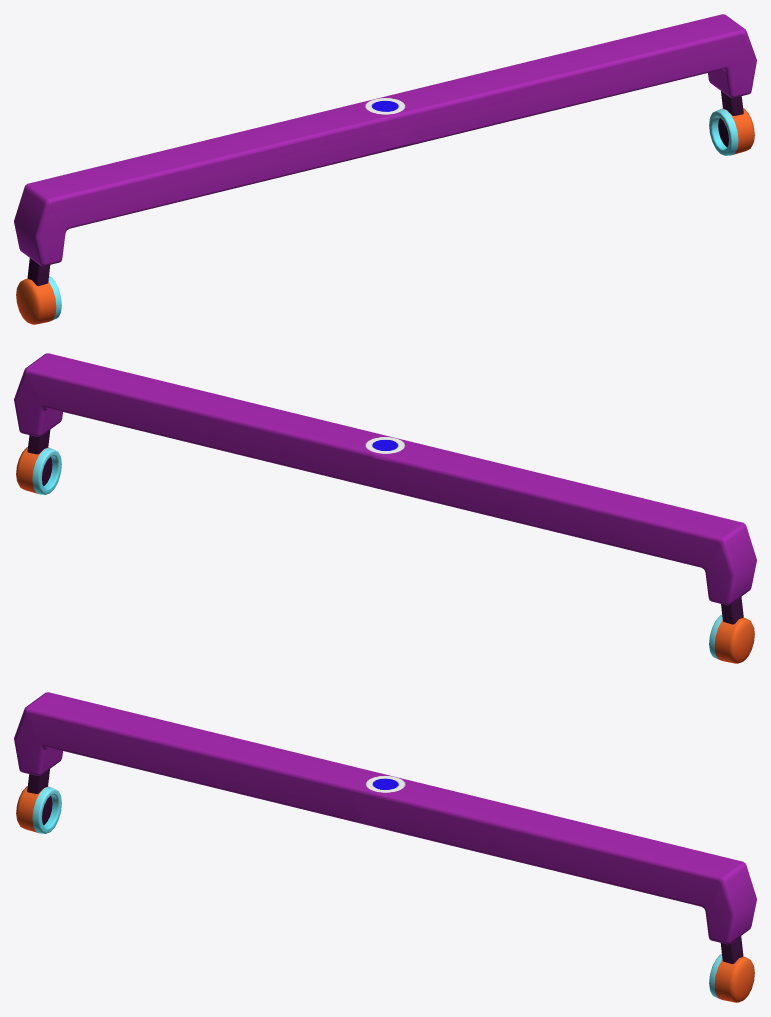
The picture shows the model from 3 angles, top to bottom: view 1: azimuth 30°, elevation 25°; view 2: azimuth 150°, elevation 25°; view 3: azimuth 330°, elevation 25°; orthographic projection.
Visible parts, largest first — view 1: shape2_10; view 2: shape2_10; view 3: shape2_10.
Part boxes in pixels (<box>): shape2_10: <box>14,14,756,324</box>; shape2_10: <box>14,353,756,663</box>; shape2_10: <box>14,692,756,1002</box>.
Bounding box in the file's own units: 86.93 × 15 × 5.
